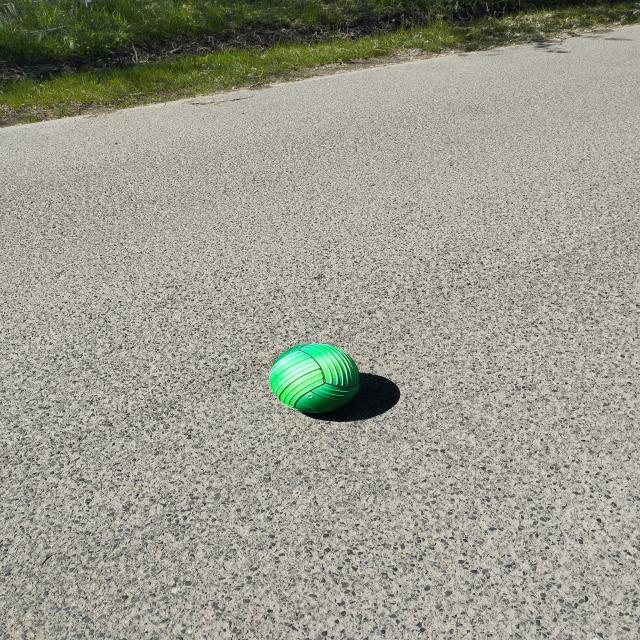zielona: (269, 343, 360, 414)
